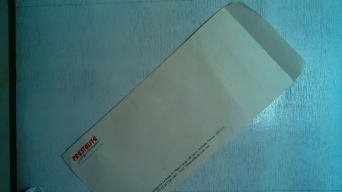l: (63, 4, 306, 191)
